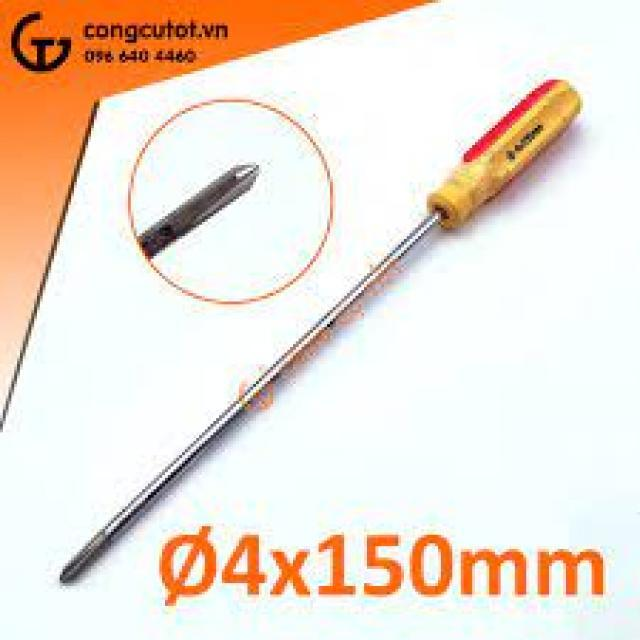screwdriver: (54, 72, 583, 588)
